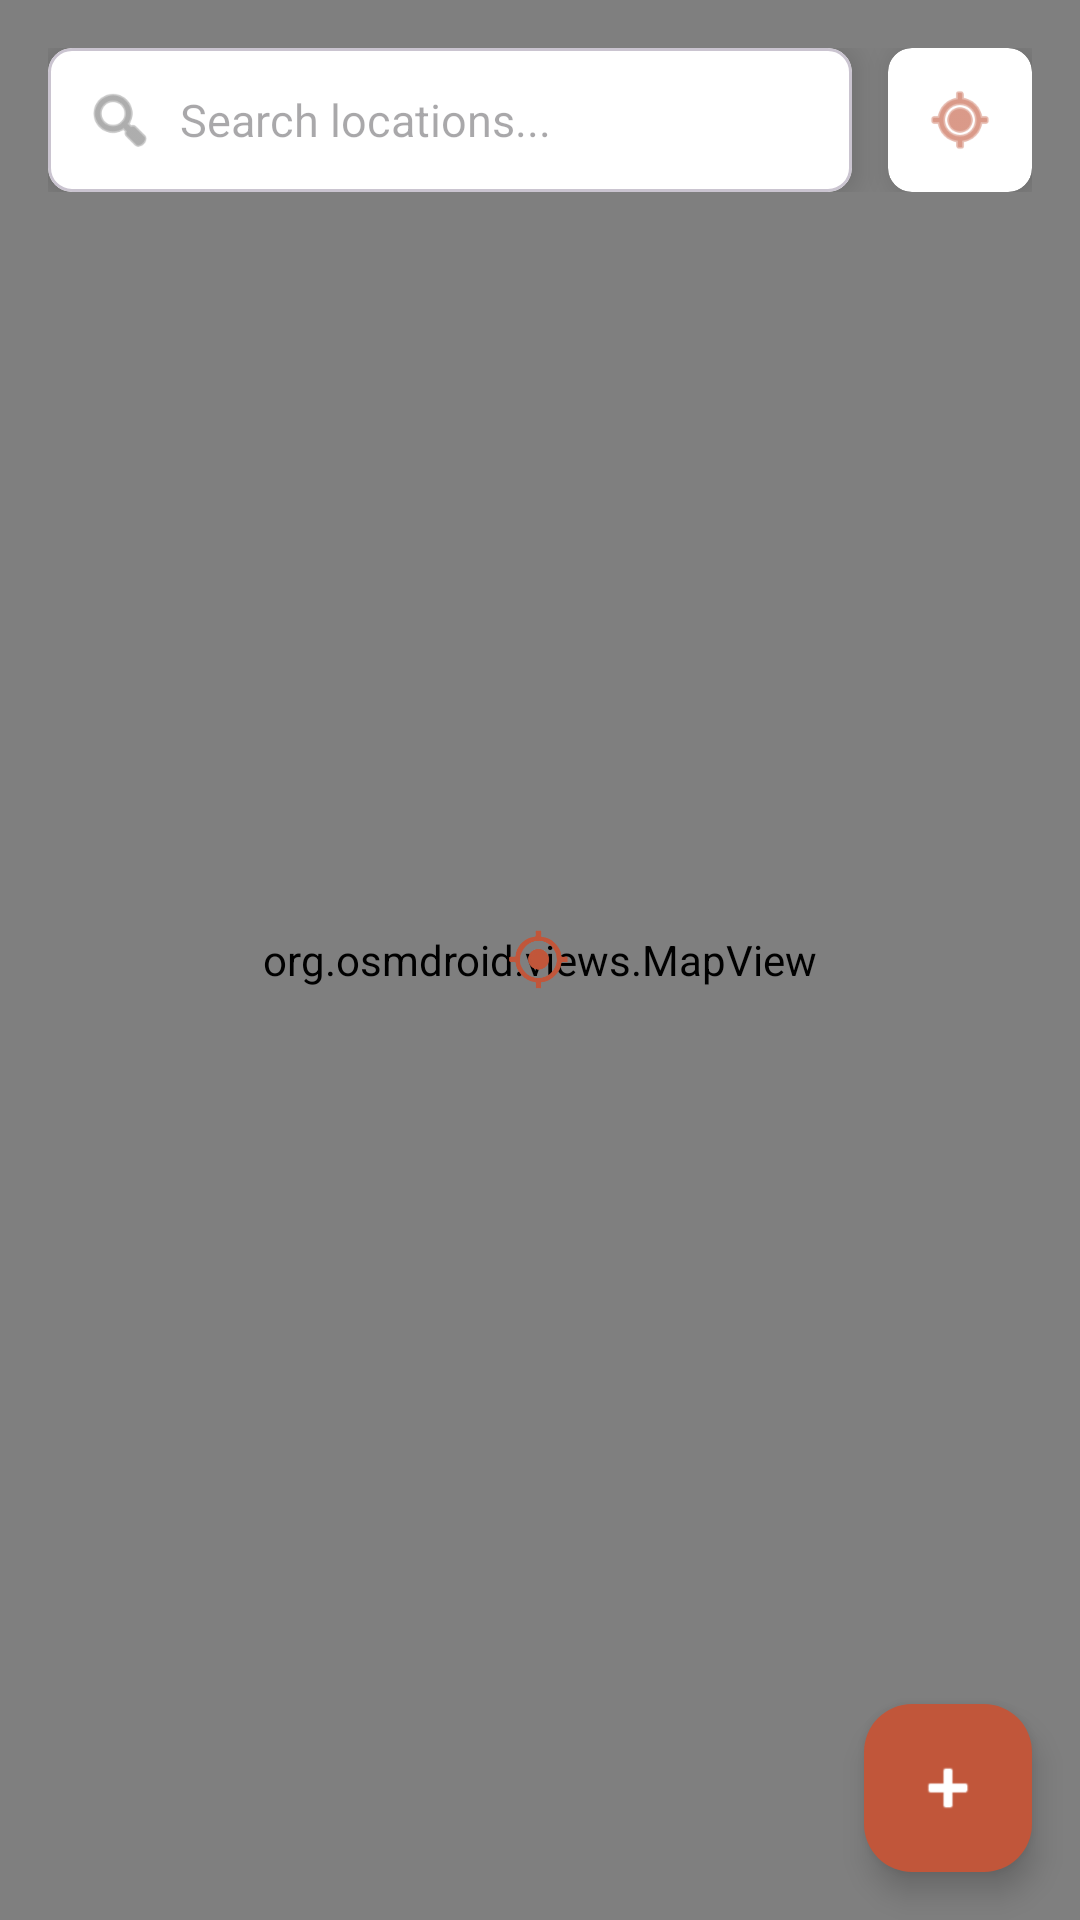

Icons on this 1080w x 1920h Android screen, each with its box as [left=x1, top=y1, right=x2, bottom=y2]:
Add memo: [left=864, top=1704, right=1032, bottom=1872]
mylocation: [left=931, top=91, right=989, bottom=149]
